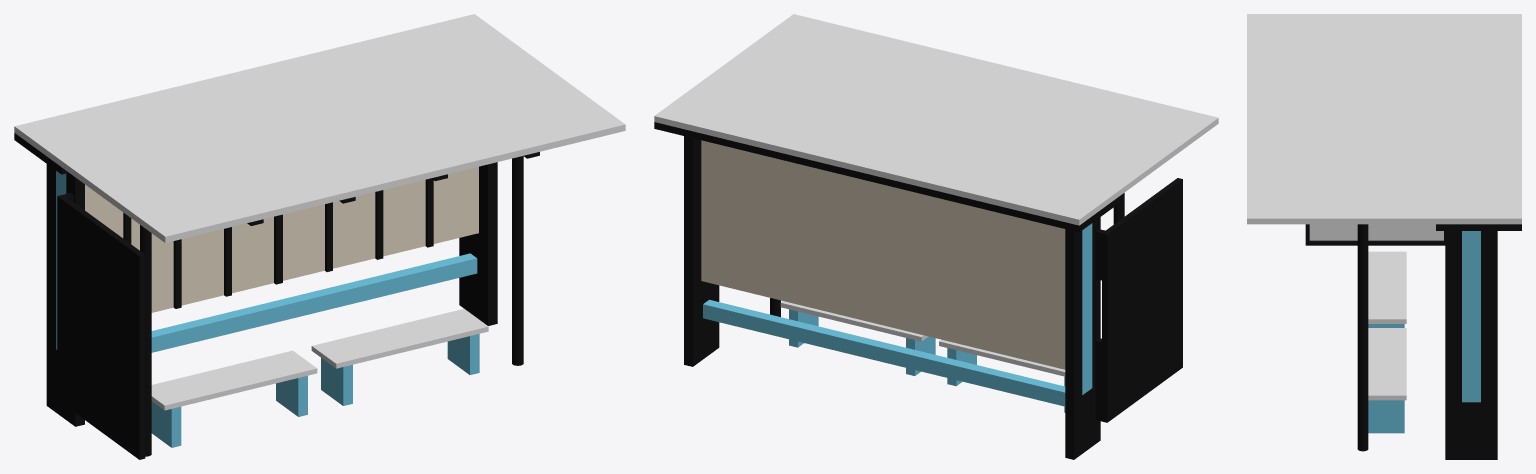
Rendered from bus stand with bench.fbx.
The picture shows the model from 3 angles, left to right: view 1: azimuth 30°, elevation 25°; view 2: azimuth 150°, elevation 25°; view 3: azimuth 270°, elevation 25°; orthographic projection. The views are drawn at different scales.
Parts seen in each view (by area): view 1: Cube.001, Cube, Cube.002, Cube.004, Cube.003, Cylinder; view 2: Cube, Cube.001, Cube.002, Cube.004, Cube.003; view 3: Cube.001, Cube, Cube.004, Cube.003, Cube.002, Cylinder.
Part boxes in pixels (x1,y1,x2,y2): Cube.001: [14, 14, 625, 242]; Cube: [46, 162, 497, 426]; Cube.002: [57, 193, 145, 459]; Cube.004: [311, 308, 488, 405]; Cube.003: [151, 350, 317, 447]; Cylinder: [140, 156, 523, 456]; Cube: [684, 136, 1100, 459]; Cube.001: [654, 14, 1218, 232]; Cube.002: [1095, 178, 1182, 422]; Cube.004: [780, 301, 935, 375]; Cube.003: [939, 339, 1065, 412]; Cube.001: [1247, 14, 1521, 230]; Cube: [1445, 231, 1497, 459]; Cube.004: [1368, 328, 1406, 433]; Cube.003: [1368, 251, 1406, 327]; Cube.002: [1305, 224, 1445, 245]; Cylinder: [1357, 224, 1368, 451].
Bounding box in the file's own units: 352 × 201 × 200.
